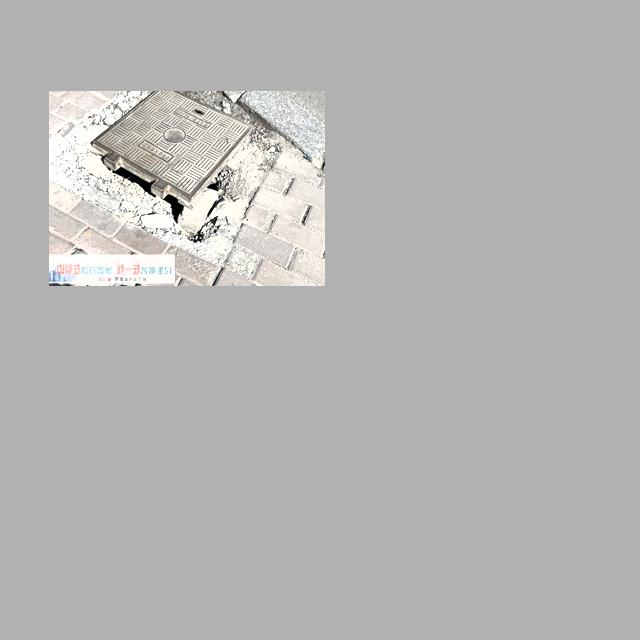circle: (52, 94, 281, 246)
